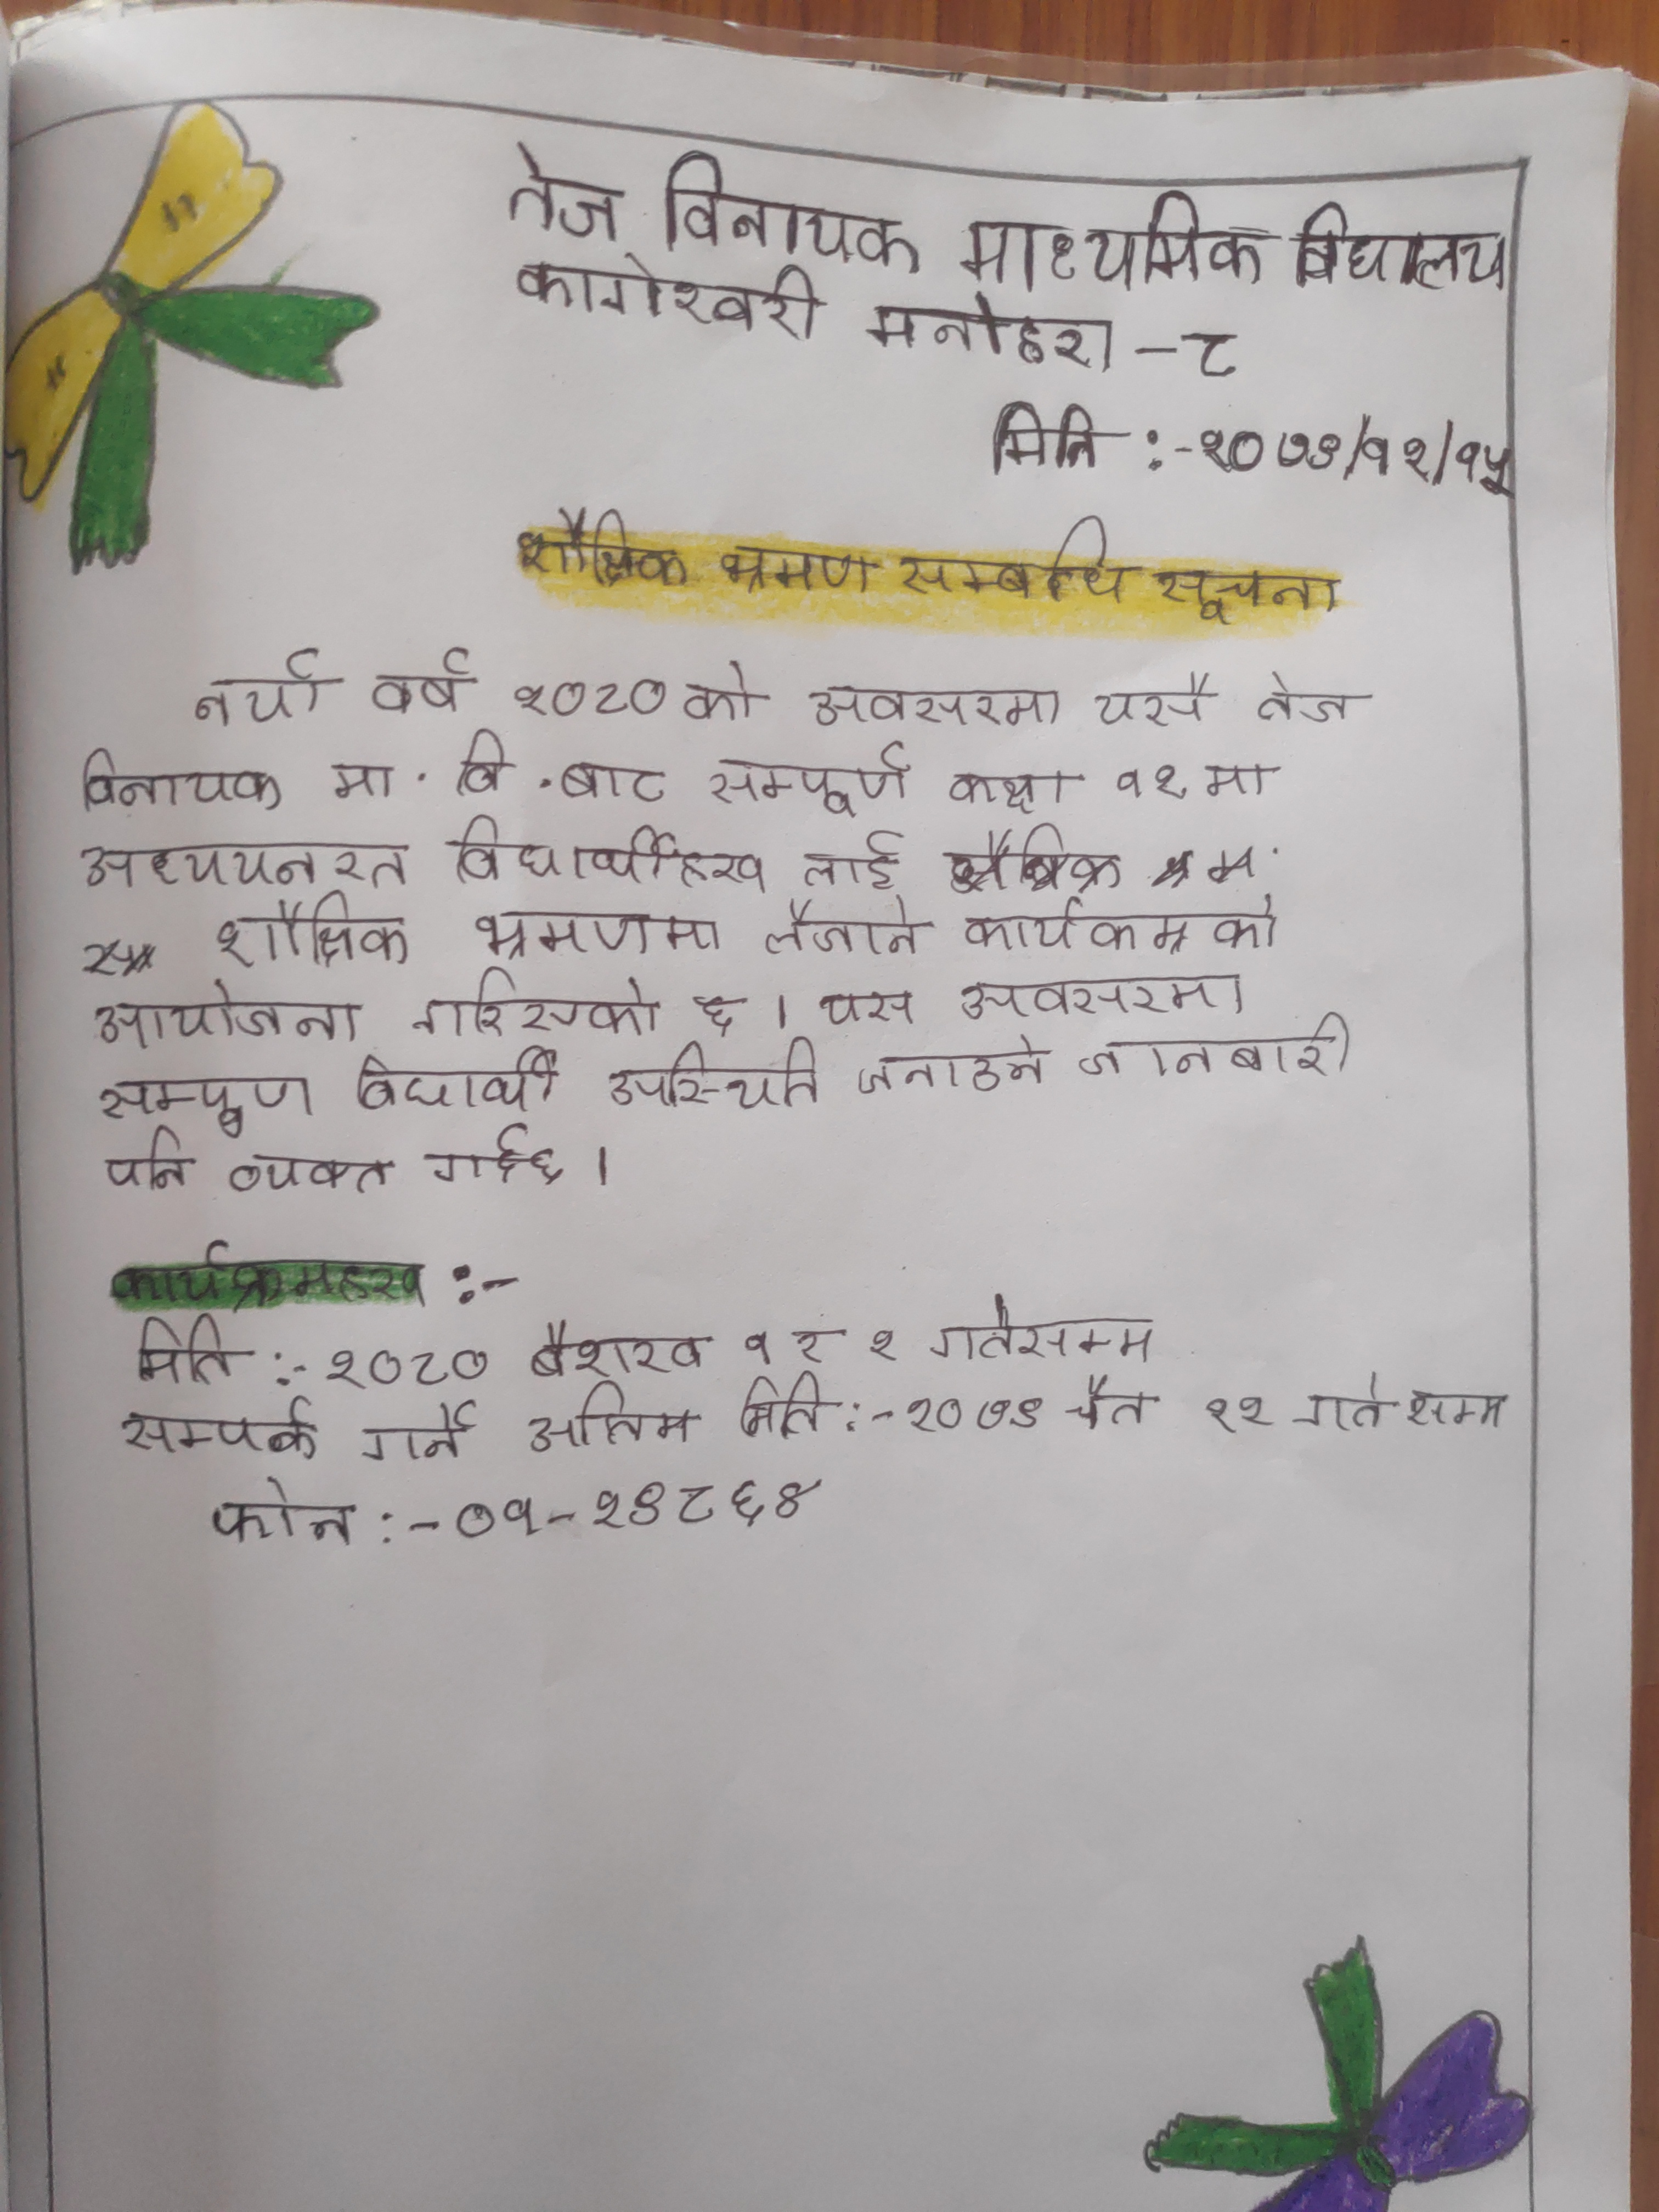text: (955, 186, 1270, 291), (659, 152, 920, 268), (1187, 420, 1513, 512), (511, 261, 833, 345), (106, 1235, 429, 1317), (448, 813, 770, 892), (890, 514, 1140, 613), (859, 284, 1117, 378), (453, 1479, 824, 1541), (1290, 200, 1514, 298), (404, 965, 664, 1045), (1077, 1014, 1358, 1087), (955, 902, 1284, 961), (70, 841, 413, 895), (951, 965, 1258, 1021), (606, 1036, 824, 1115), (924, 1294, 1162, 1366), (800, 672, 1066, 735), (89, 989, 368, 1049), (209, 902, 413, 979), (509, 507, 695, 590), (699, 742, 918, 812), (85, 1071, 315, 1136), (350, 1045, 563, 1115), (119, 1397, 328, 1467), (77, 745, 282, 812), (852, 1031, 1056, 1097), (471, 900, 723, 953), (1155, 561, 1340, 632), (504, 138, 626, 246), (526, 1383, 697, 1460), (188, 648, 347, 726), (713, 536, 889, 606), (202, 1480, 366, 1552), (413, 1116, 572, 1190), (755, 906, 932, 967), (523, 1318, 716, 1374), (979, 392, 1105, 475), (132, 1313, 244, 1392), (321, 1343, 491, 1392), (357, 1400, 479, 1468), (509, 672, 673, 723), (221, 1153, 401, 1198), (1091, 671, 1218, 733), (368, 646, 476, 719), (1253, 664, 1363, 730), (945, 768, 1091, 817), (896, 1392, 1053, 1437), (796, 829, 906, 894), (735, 1374, 836, 1444), (1288, 1372, 1392, 1439), (678, 651, 762, 732), (1063, 1369, 1159, 1439), (94, 1134, 193, 1195), (554, 758, 673, 808), (1405, 1379, 1507, 1432), (451, 726, 509, 803), (810, 988, 915, 1029), (1197, 1383, 1274, 1439), (1180, 319, 1248, 381), (1197, 758, 1284, 803), (1112, 763, 1190, 810), (687, 988, 751, 1043), (788, 1318, 840, 1374), (329, 761, 399, 798), (732, 1320, 786, 1367), (856, 1324, 903, 1371)
